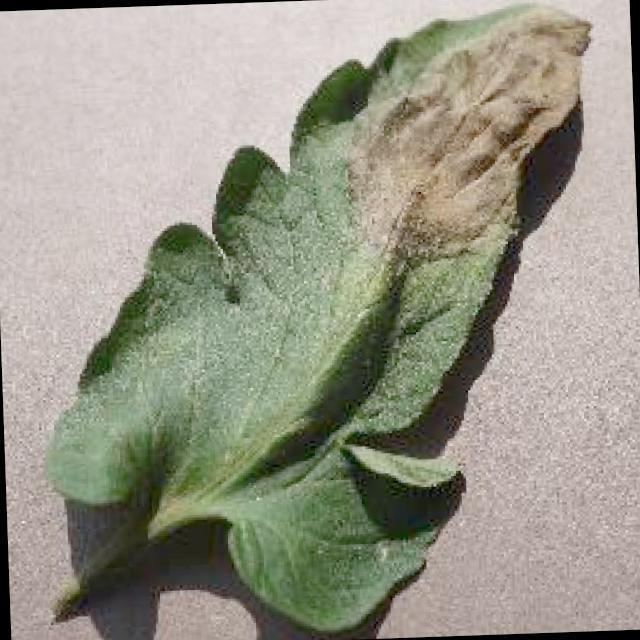Tomato late blight leaf: (29, 0, 617, 640)
